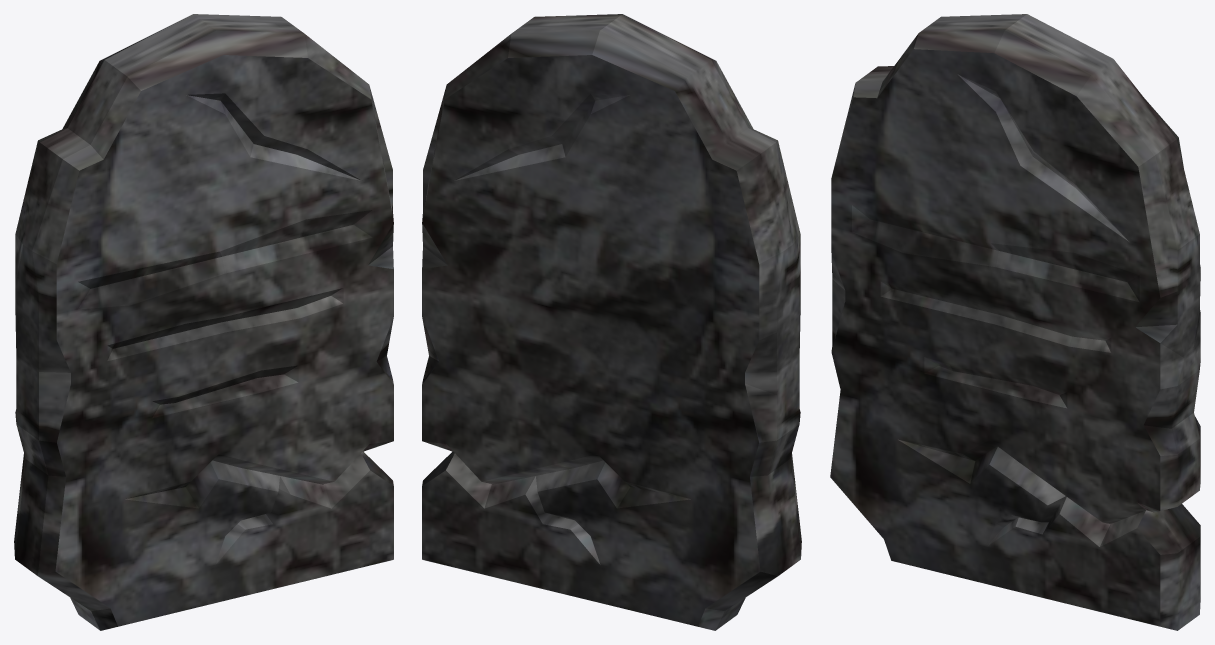
The model's file is Tombstone.fbx.
The picture shows the model from 3 angles, left to right: view 1: azimuth 30°, elevation 25°; view 2: azimuth 150°, elevation 25°; view 3: azimuth 330°, elevation 25°; orthographic projection. The views are drawn at different scales.
Parts seen in each view (by area): view 1: SM_Wep_Shield_Gravestone_01; view 2: SM_Wep_Shield_Gravestone_01; view 3: SM_Wep_Shield_Gravestone_01.
Part boxes in pixels (<box>): SM_Wep_Shield_Gravestone_01: <box>14,14,393,630</box>; SM_Wep_Shield_Gravestone_01: <box>422,14,801,630</box>; SM_Wep_Shield_Gravestone_01: <box>830,14,1200,630</box>.
Size of the model in its own units: 313 by 483 by 63.3.
Materials: 1 (1 with a texture image).
